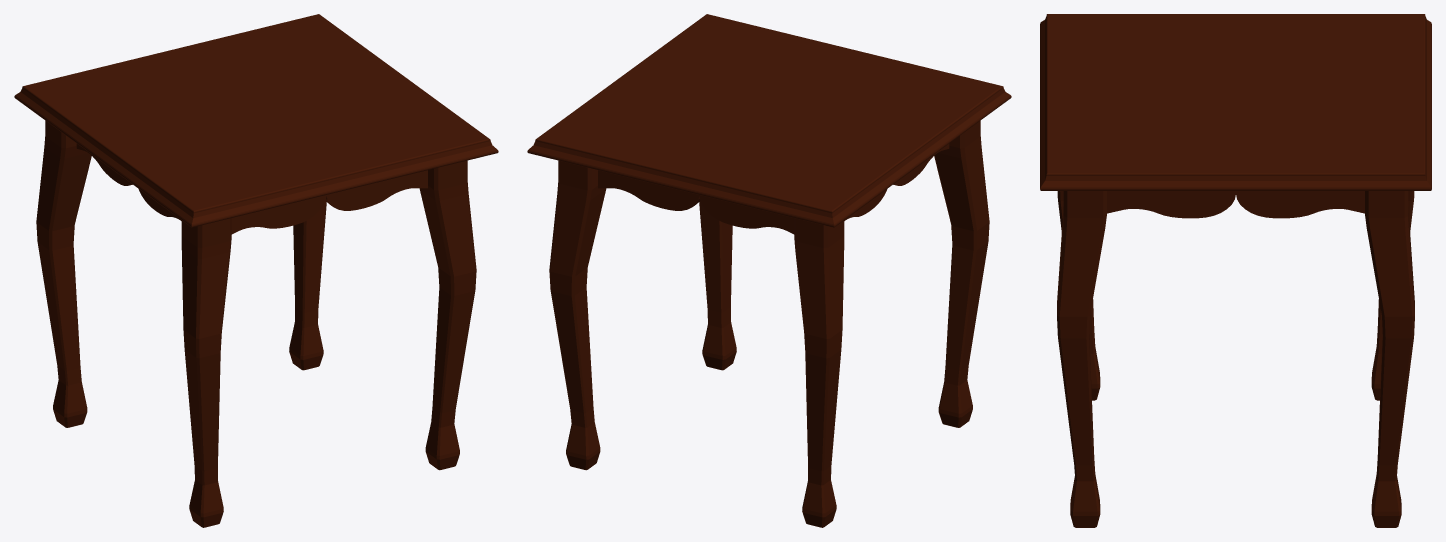
File: LivingRoom SideDesk.fbx
The picture shows the model from 3 angles, left to right: view 1: azimuth 30°, elevation 25°; view 2: azimuth 150°, elevation 25°; view 3: azimuth 270°, elevation 25°; orthographic projection. The views are drawn at different scales.
Parts seen in each view (by area): view 1: SideDesk; view 2: SideDesk; view 3: SideDesk.
Boxes of the visible parts, bbox=[...] form: SideDesk: bbox=[14, 14, 498, 527]; SideDesk: bbox=[527, 14, 1011, 527]; SideDesk: bbox=[1040, 14, 1431, 527].
Bounding box in the file's own units: 45.49 × 47 × 45.49.
